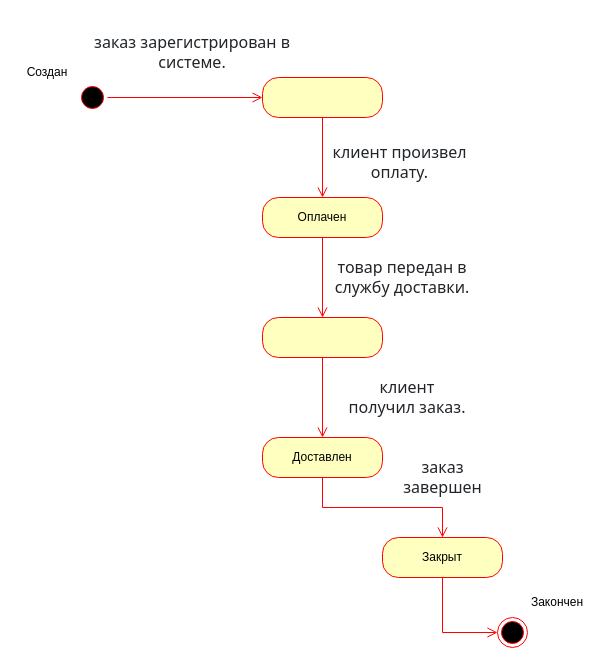
This 604x665 diagram has some shape labels left out. Here are the shapes that lost their labels. From the top down, the box of each, then its label:
(262, 76, 382, 118): Заказ
(262, 316, 382, 358): Отправлен
